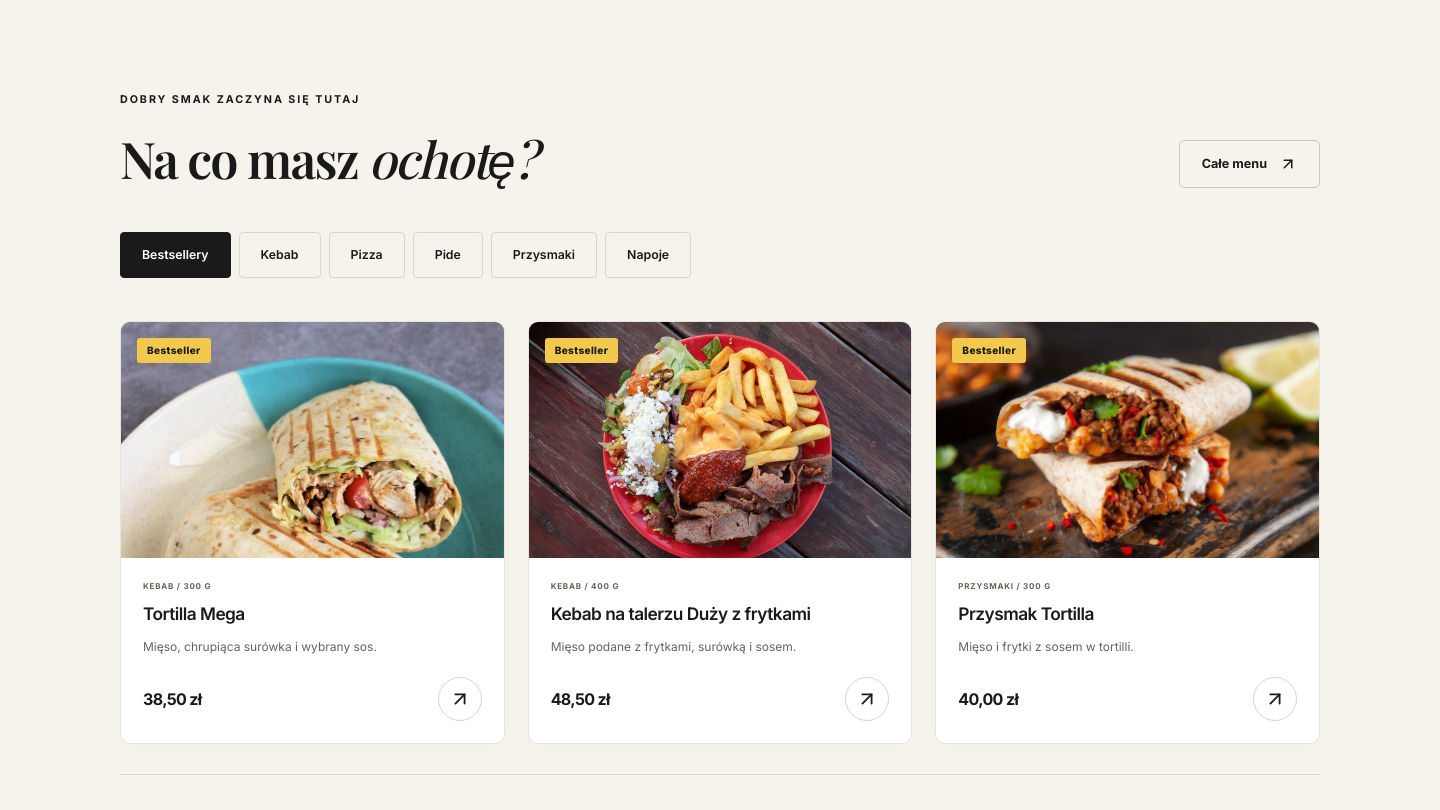
Test: Menu browsing › switches categories and exposes the associated tab panel to assistive technology
Step 1. Click the tab "Pide" → [448, 255], box [413,232,483,278]
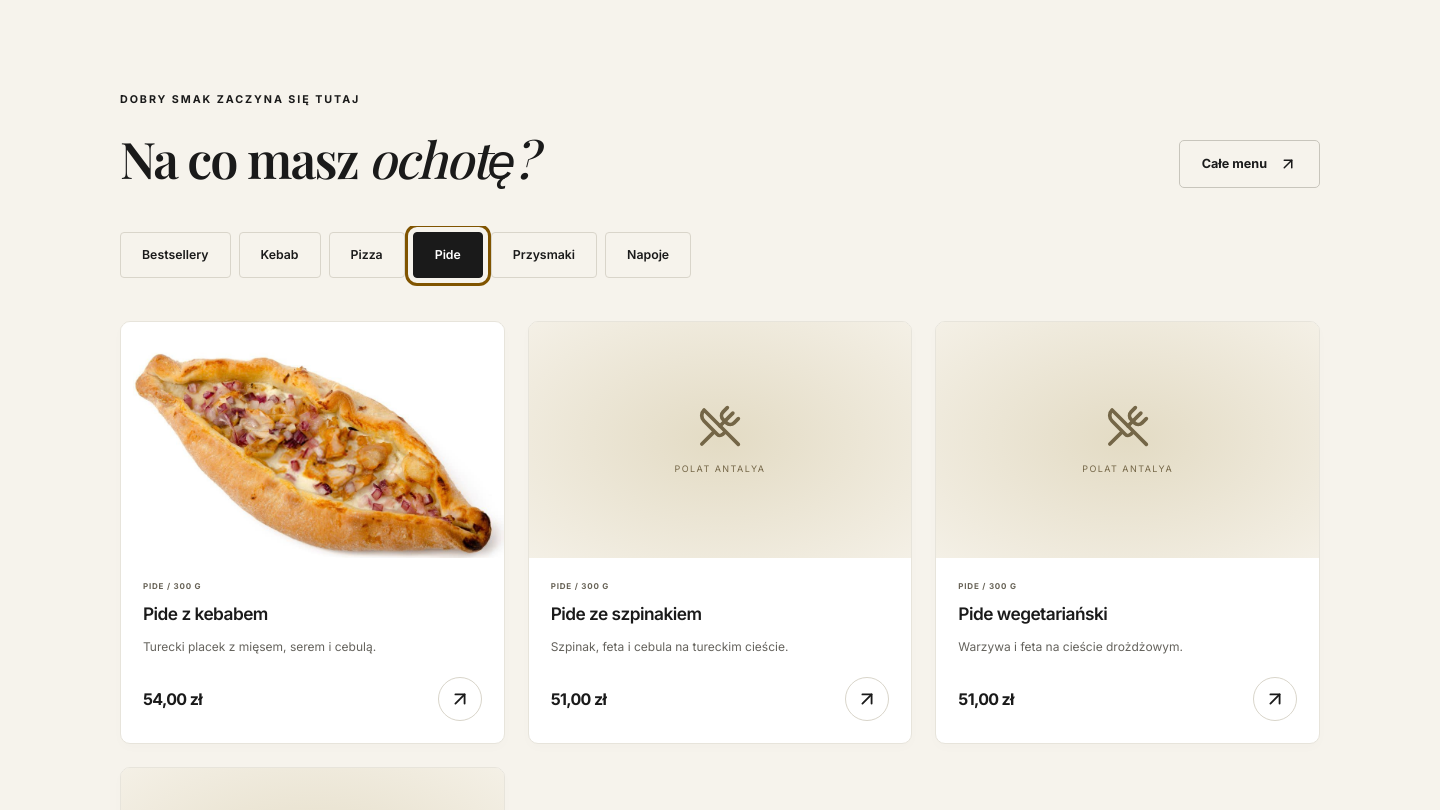
Expected: the heading "Pide z kebabem" is shown, [143,603,268,624]
Expected: the heading "Tortilla Mega" is gone
